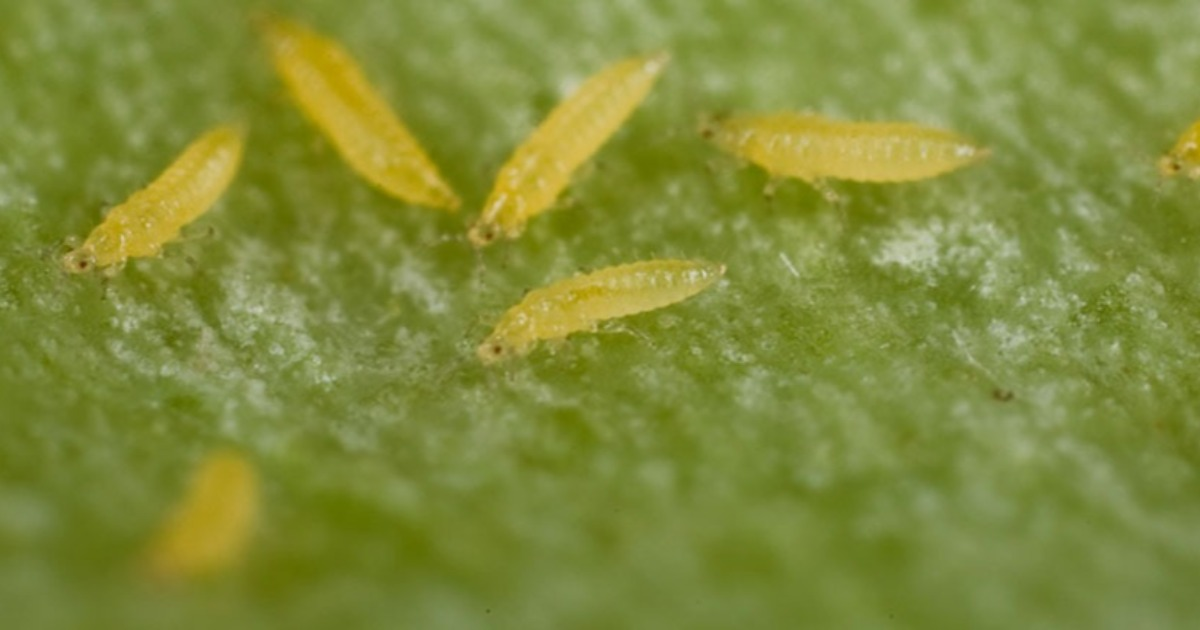Thrips: (258, 15, 457, 230), (688, 101, 988, 237), (66, 124, 251, 282), (470, 261, 742, 353)
